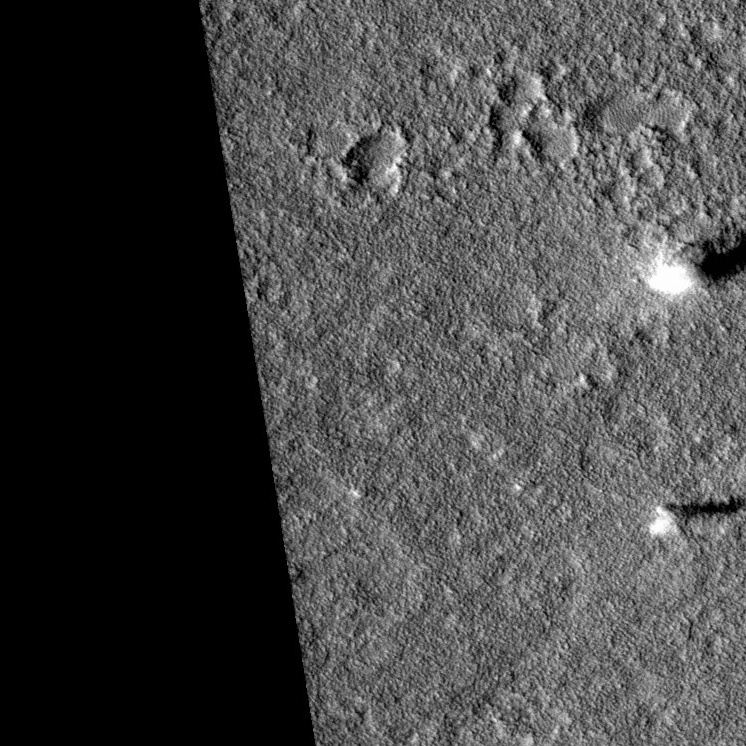dust_devil: (638, 230, 746, 304), (645, 490, 746, 544)
